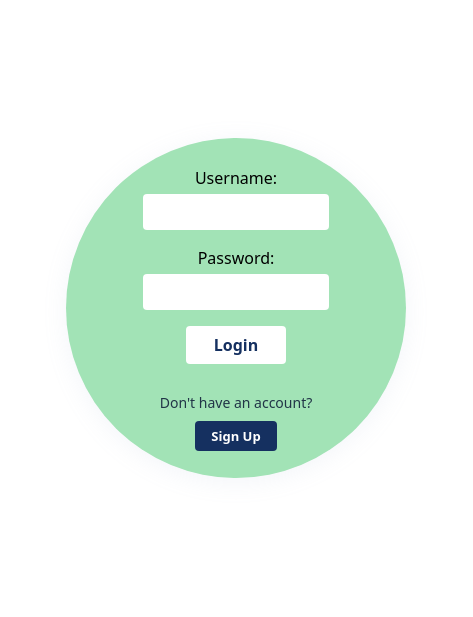
Test case: App Component › Duplicate Email Validation › should show duplicate email error on 409 response
Click the button "Sign Up": [236, 436] box top-left (195, 420), bottom-right (277, 450)
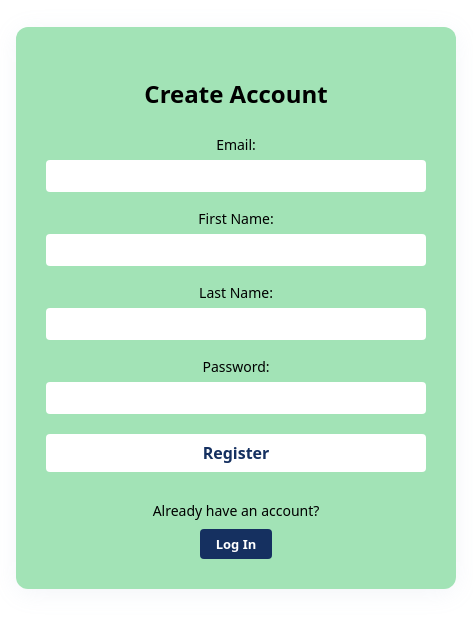
In the field below "Email:": [236, 176] box top-left (46, 160), bottom-right (426, 192), type "existing@example.com"
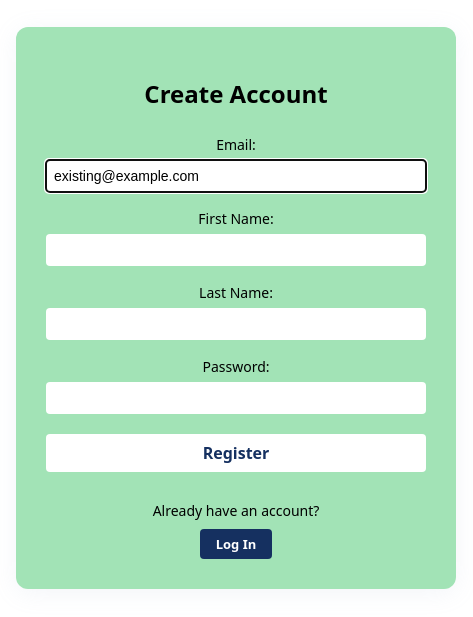
In the field below "First Name:": [236, 250] box top-left (46, 234), bottom-right (426, 266), type "John"
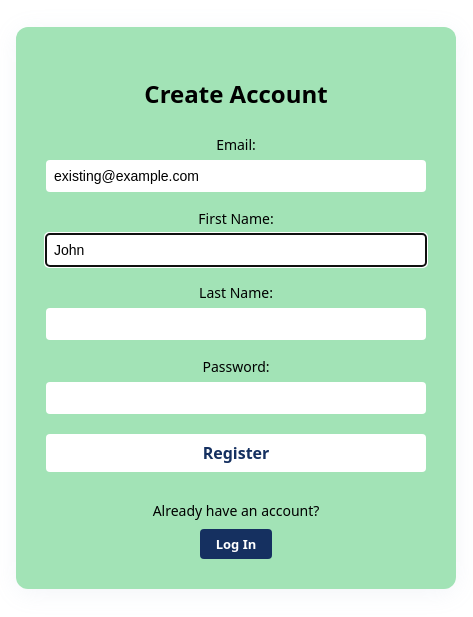
In the field below "Last Name:": [236, 324] box top-left (46, 308), bottom-right (426, 340), type "Doe"
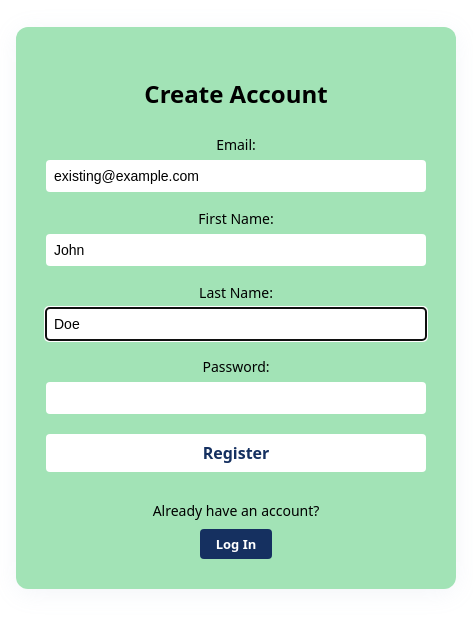
In the password field: [236, 398] box top-left (46, 382), bottom-right (426, 414), type "password123"
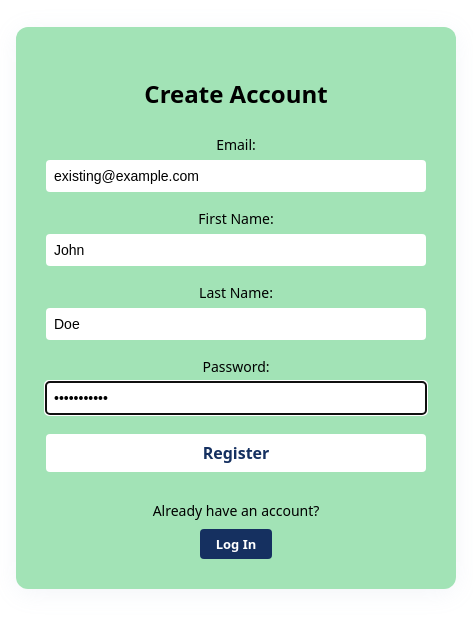
Click the button "Register": [236, 454] box top-left (46, 434), bottom-right (426, 472)
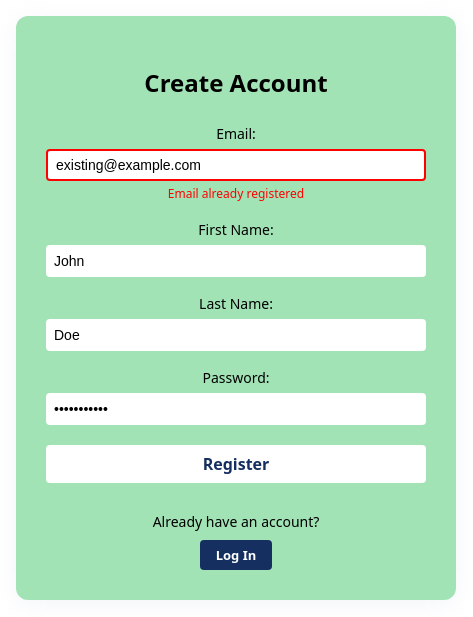
Expected: the text "Email already registered" is shown, top-left (168, 186), bottom-right (304, 202)
